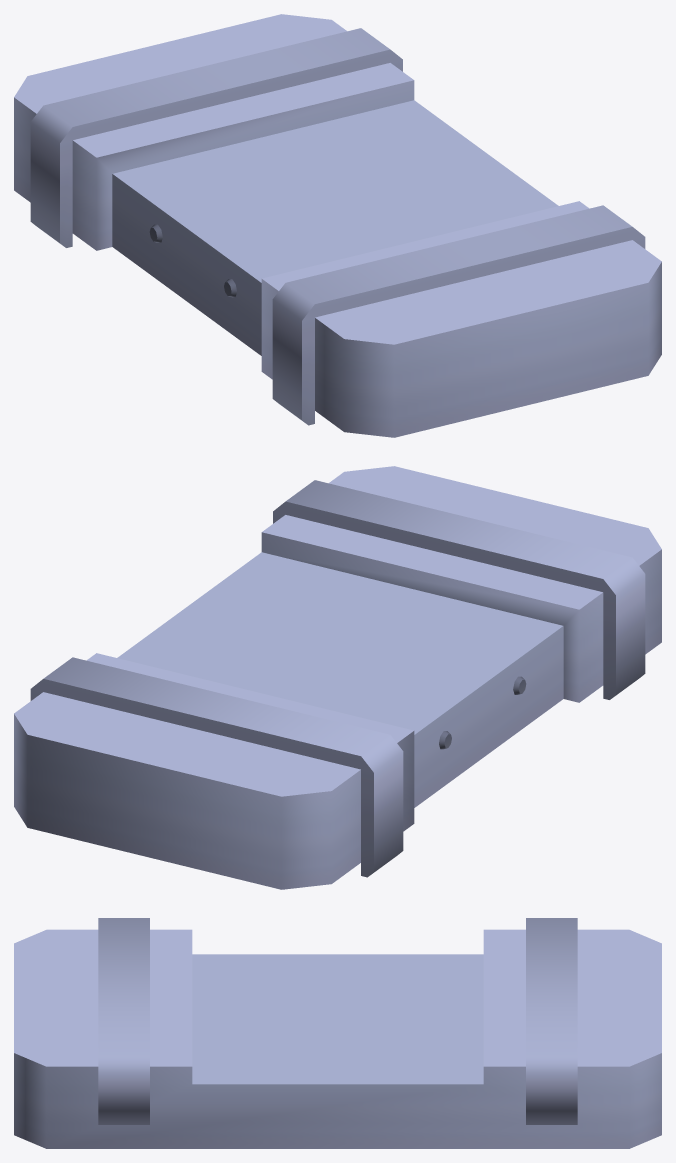
The picture shows the model from 3 angles, top to bottom: view 1: azimuth 30°, elevation 25°; view 2: azimuth 150°, elevation 25°; view 3: azimuth 270°, elevation 25°; orthographic projection. The views are drawn at different scales.
Visible parts, largest first — view 1: lid; view 2: lid; view 3: lid.
Boxes of the visible parts, x1,y1,x2,y2 form: lid: (14,14,661,437); lid: (14,466,661,889); lid: (14,918,661,1148).
Size of the model in its own units: 0.486 by 0.1619 by 0.9.
Materials: 1 (1 with a texture image).
